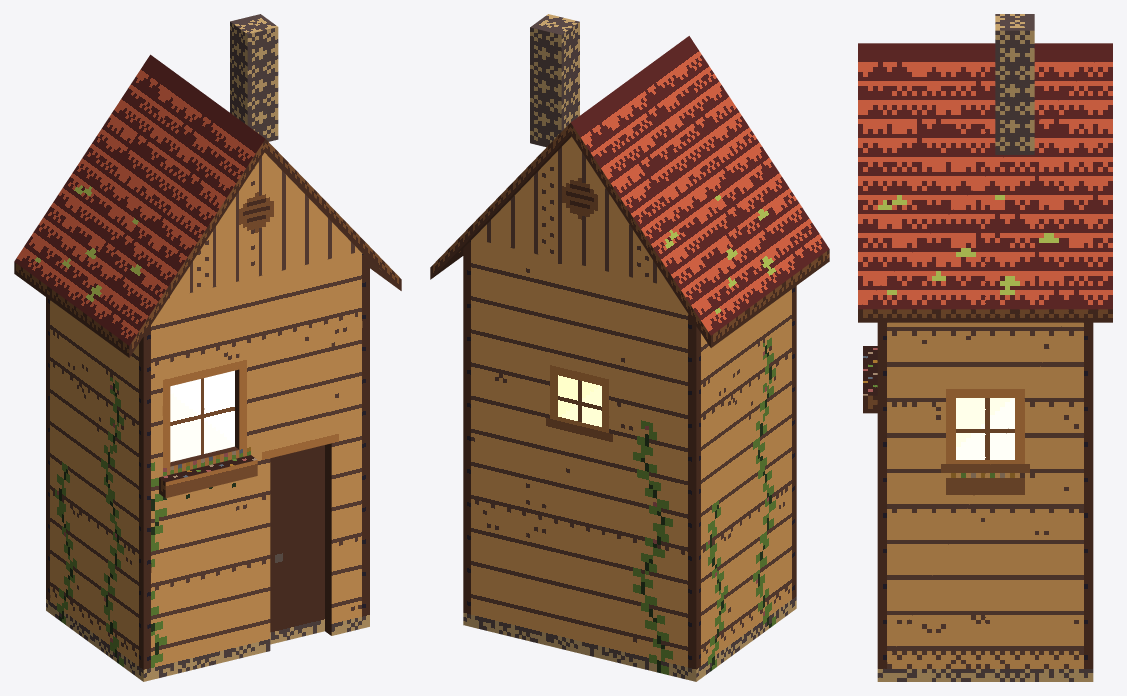
File: cottage.glb
The picture shows the model from 3 angles, left to right: view 1: azimuth 30°, elevation 25°; view 2: azimuth 150°, elevation 25°; view 3: azimuth 270°, elevation 25°; orthographic projection. The views are drawn at different scales.
Visible parts, largest first — view 1: cottage; view 2: cottage; view 3: cottage.
Part boxes in pixels (<box>): cottage: <box>14,14,401,681</box>; cottage: <box>430,14,829,681</box>; cottage: <box>858,14,1112,681</box>.
Size of the model in its own units: 71 by 142 by 52.
Materials: 1 (1 with a texture image).
